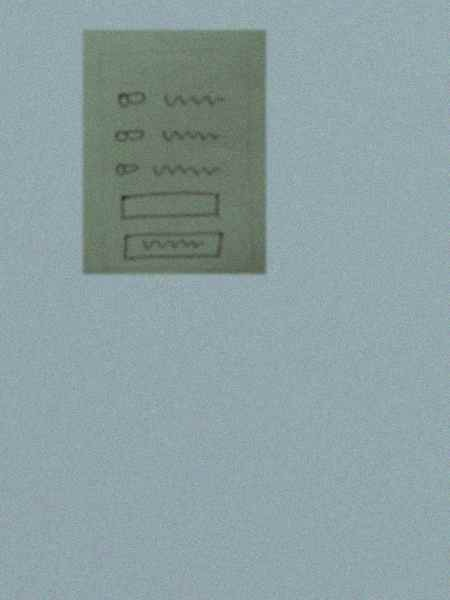switch: (115, 86, 151, 111), (111, 124, 147, 146), (113, 159, 144, 180)
text: (150, 155, 223, 183), (160, 88, 227, 112), (158, 124, 225, 144)
text_input: (115, 187, 222, 222)
